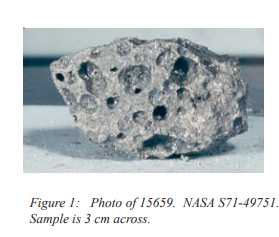Basalt: (44, 42, 251, 164)
